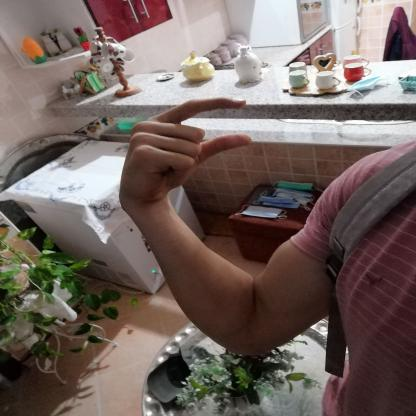DELL: (110, 88, 261, 213)
